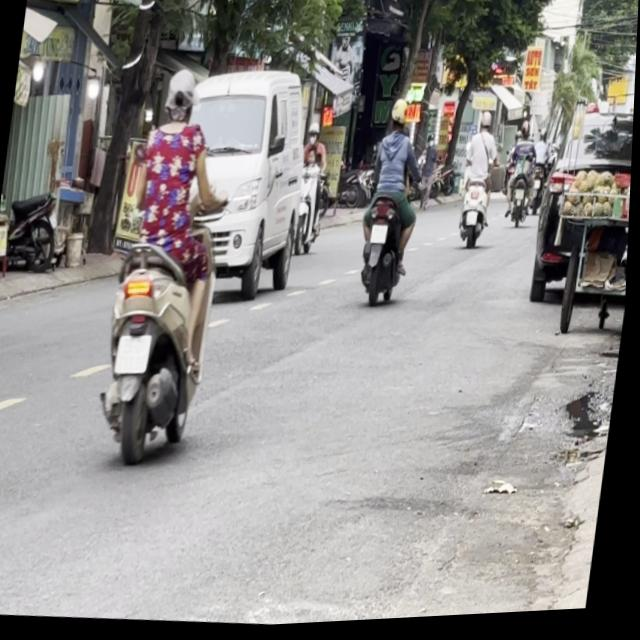helmet: (389, 100, 410, 136)
licenseplate: (86, 58, 249, 476), (353, 96, 433, 310)
motorcyclist: (160, 66, 199, 130)
nohelmet: (118, 334, 153, 374), (371, 226, 390, 247)
